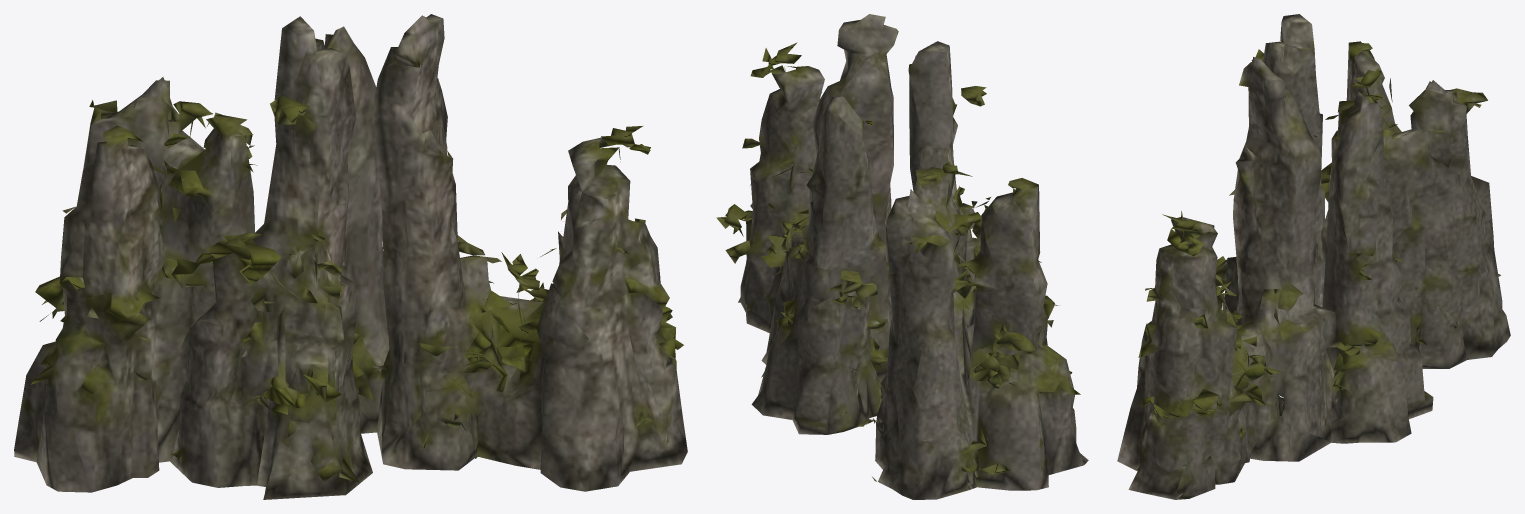
Rendered from pillars_a_xfar.glb.
3 renders of one model, left to right at view 1: azimuth 30°, elevation 25°; view 2: azimuth 150°, elevation 25°; view 3: azimuth 270°, elevation 25°, orthographic. The views are drawn at different scales.
Visible parts, largest first — view 1: pillars_a; view 2: pillars_a; view 3: pillars_a.
Boxes of the visible parts, left/top/right/bottom form: pillars_a: left=14, top=14, right=687, bottom=499; pillars_a: left=716, top=14, right=1088, bottom=499; pillars_a: left=1117, top=14, right=1510, bottom=499.
Bounding box in the file's own units: 1.89 × 1.45 × 1.44.
1 material, 1 textured.
